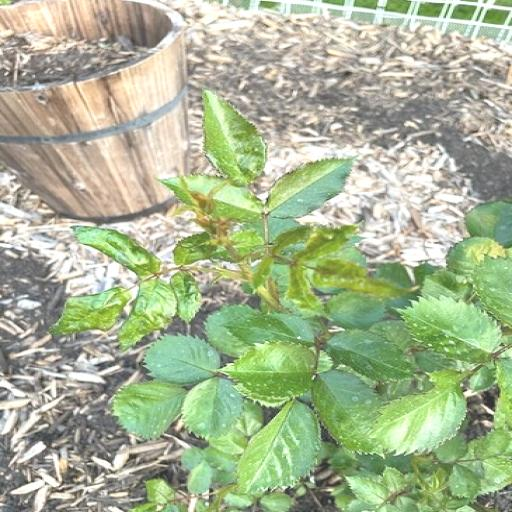thrip: (52, 90, 511, 511)
